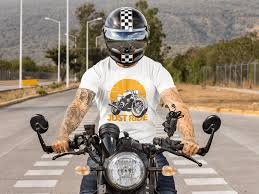with_helmet: (103, 5, 149, 38)
